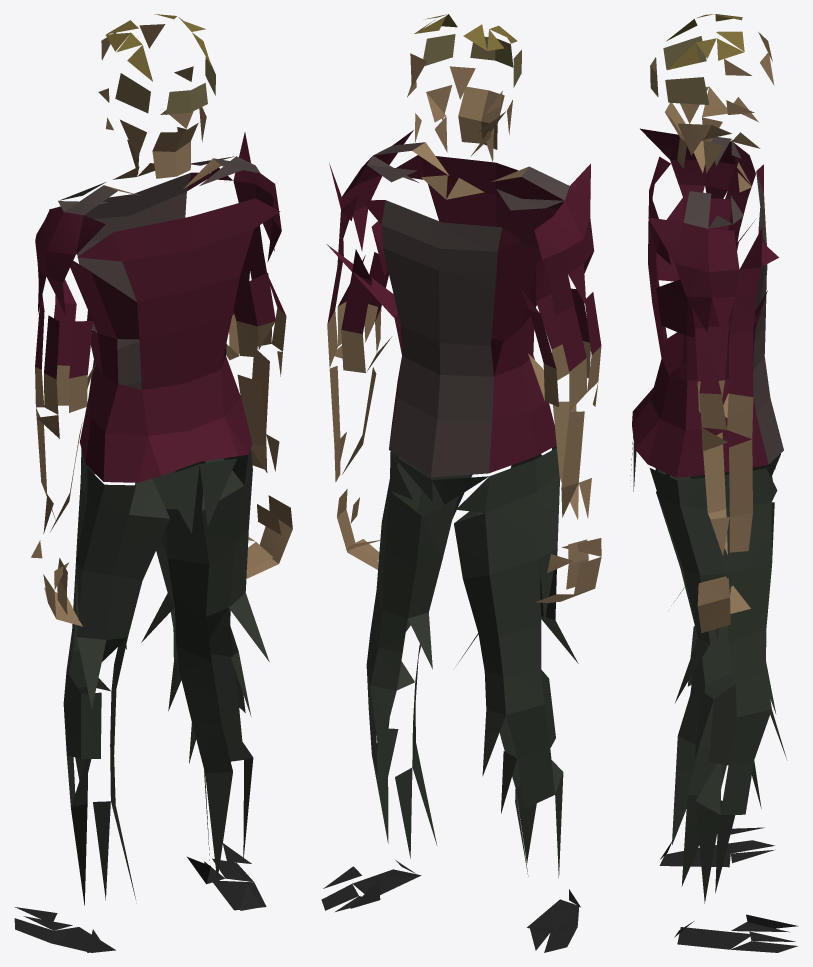
Rendered from personfar_2_idle.fbx.
3 views of the same model, side by side, from view 1: azimuth 30°, elevation 25°; view 2: azimuth 150°, elevation 25°; view 3: azimuth 270°, elevation 25° (orthographic).
Parts seen in each view (by area): view 1: BaseHuman; view 2: BaseHuman; view 3: BaseHuman.
Part boxes in pixels (left/top/right/bottom): BaseHuman: left=14, top=14, right=292, bottom=952; BaseHuman: left=321, top=14, right=601, bottom=952; BaseHuman: left=630, top=14, right=798, bottom=952.
Size of the model in its own units: 0.2881 by 0.973 by 0.1698.
